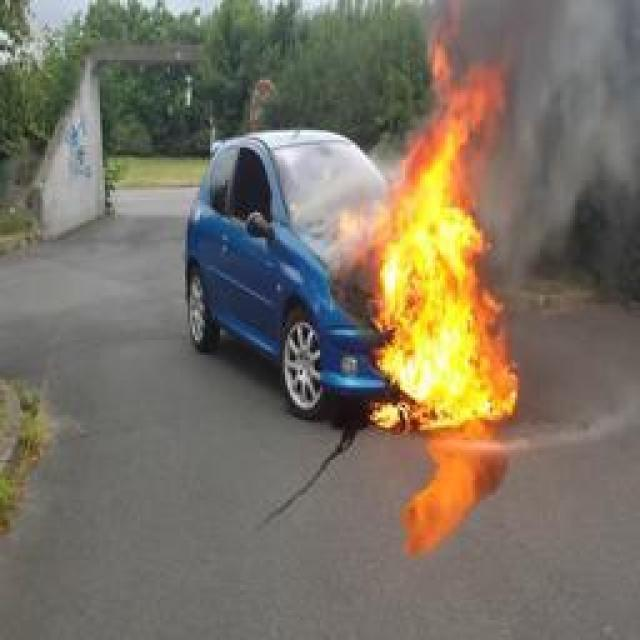Fire: (340, 39, 520, 432)
